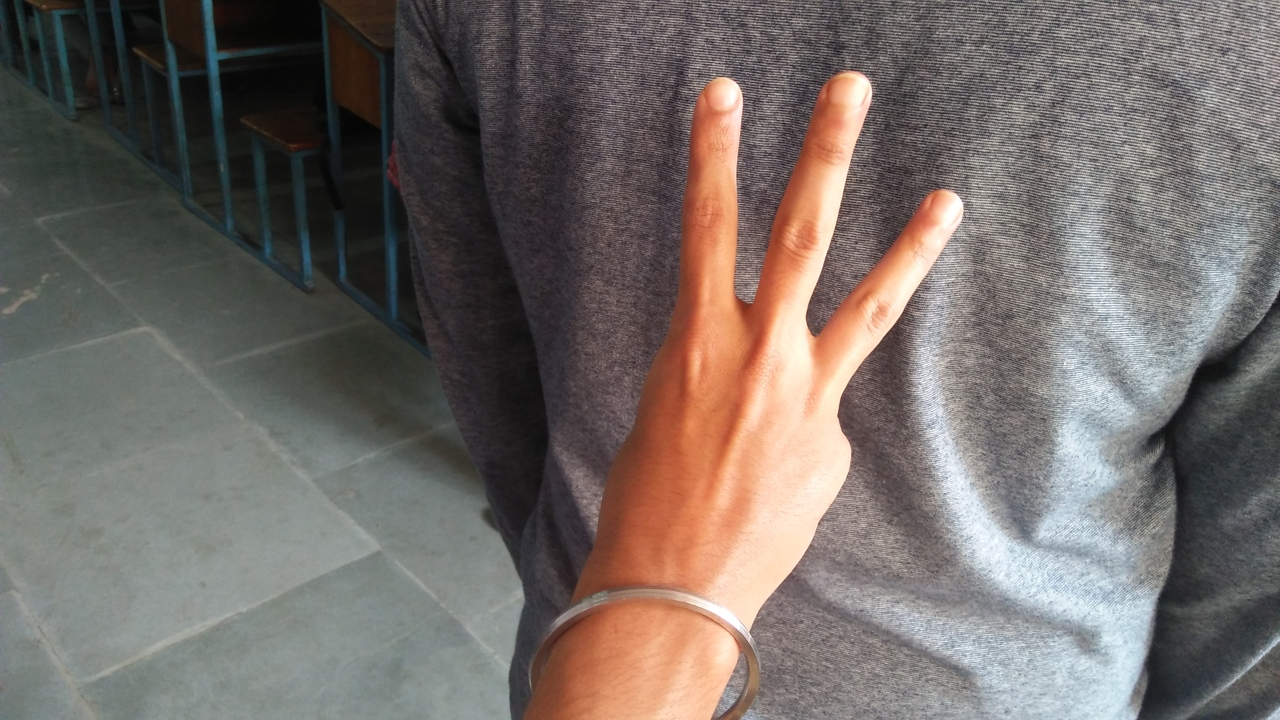fingertip: (908, 178, 976, 236), (818, 66, 878, 124), (692, 74, 748, 124)
